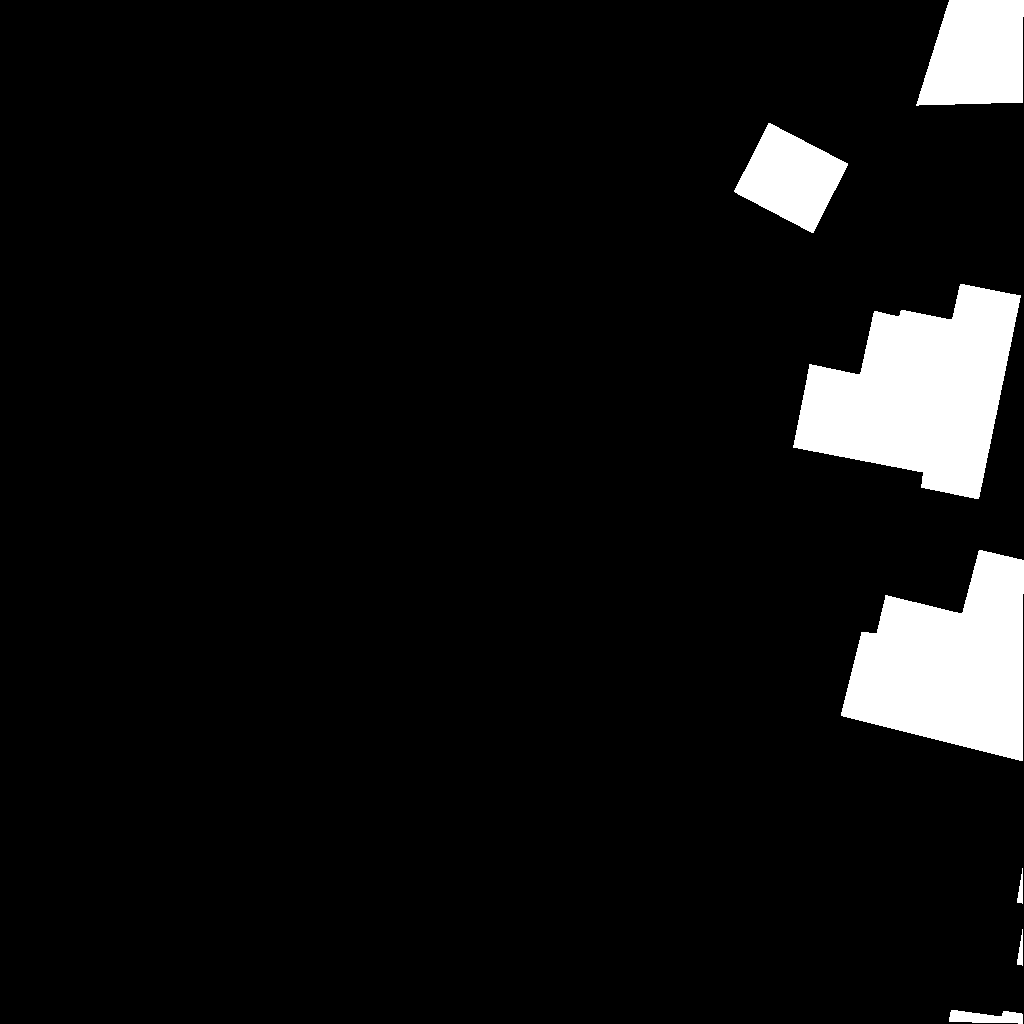building: (793, 284, 1022, 500), (841, 550, 1024, 762), (734, 123, 849, 234), (916, 0, 1024, 106), (949, 1010, 1024, 1024), (1017, 865, 1024, 966), (1022, 263, 1024, 267), (1023, 498, 1024, 501)
